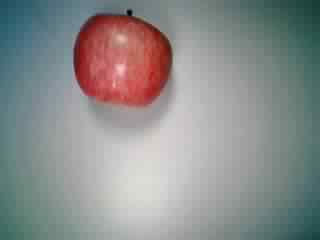apple: (70, 3, 176, 107)
